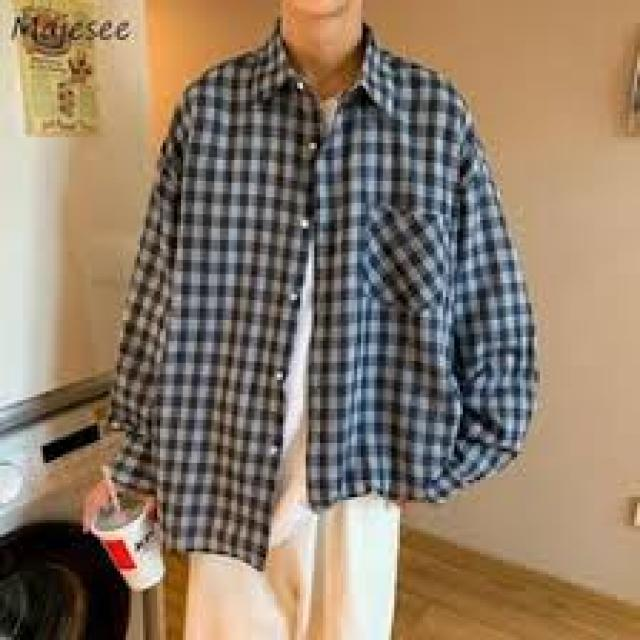plaid: (114, 35, 538, 556)
